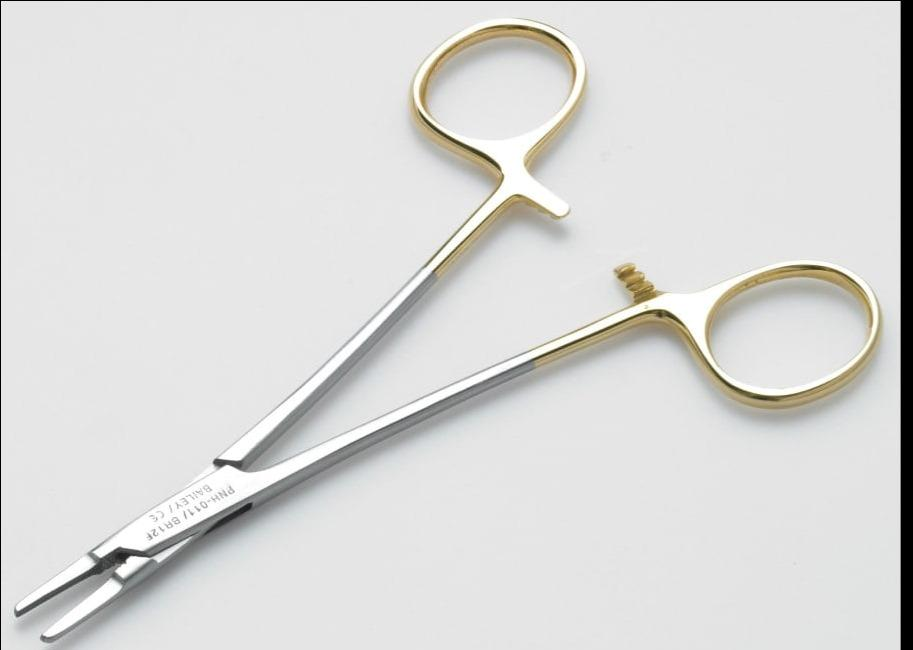Needle Holder: (3, 19, 888, 643)
